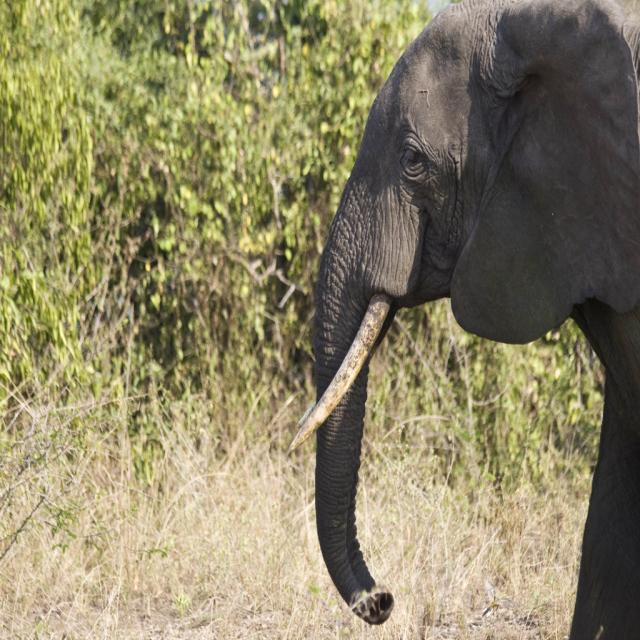Elephant: (286, 0, 639, 639)
